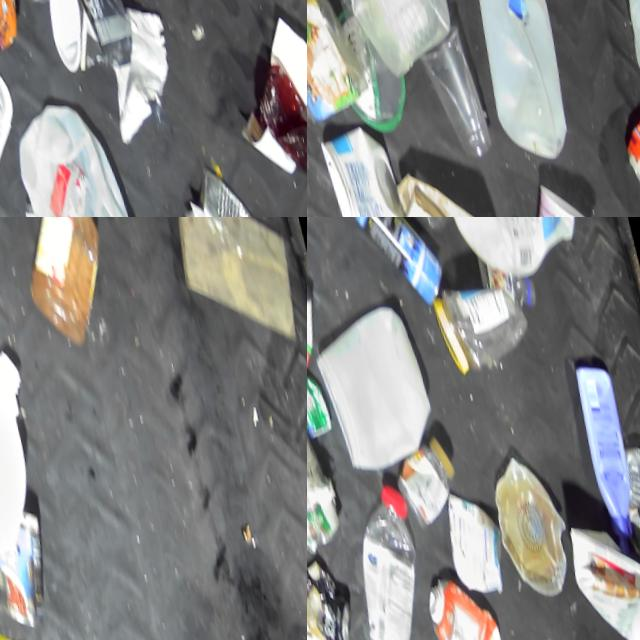can: (432, 483, 509, 595), (0, 501, 56, 627), (307, 550, 353, 640), (307, 443, 333, 541), (307, 351, 327, 437)
milk_jug: (308, 297, 433, 469), (458, 0, 582, 160), (4, 102, 151, 217), (0, 330, 62, 569), (307, 0, 461, 78), (556, 499, 640, 640), (421, 217, 587, 282), (600, 0, 640, 128)
non_white_jug: (409, 571, 502, 640), (614, 85, 640, 217)
plastic_bottle: (327, 481, 433, 640), (0, 217, 125, 345), (427, 267, 535, 373), (307, 0, 359, 140), (613, 428, 640, 539)
